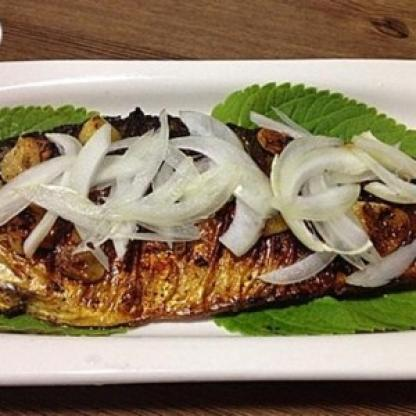Peixe: (0, 105, 416, 339)
